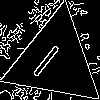I: (30, 35, 68, 80)
